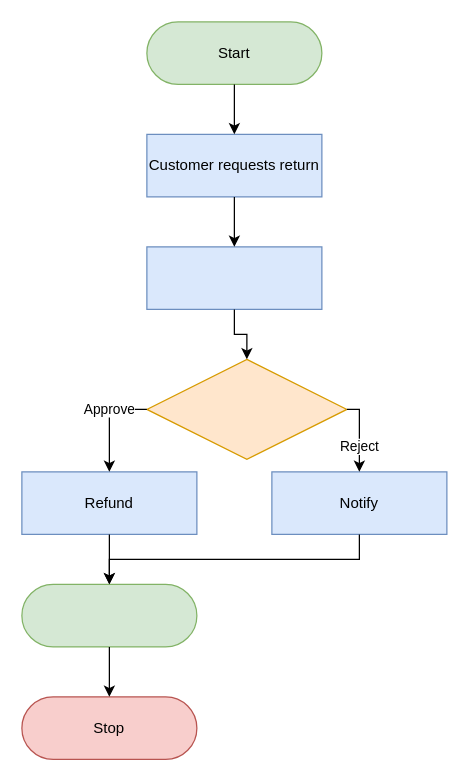
Some shapes in this 469 by 781 pixel diagram are drawn without their labels. The shapes that lost their labels are listed below. From the top down, each one's centre as x and y in pixels, then its label:
At pixel 234 277: "Check eligibility".
At pixel 246 408: "Approve/Reject".
At pixel 109 615: "Close".
